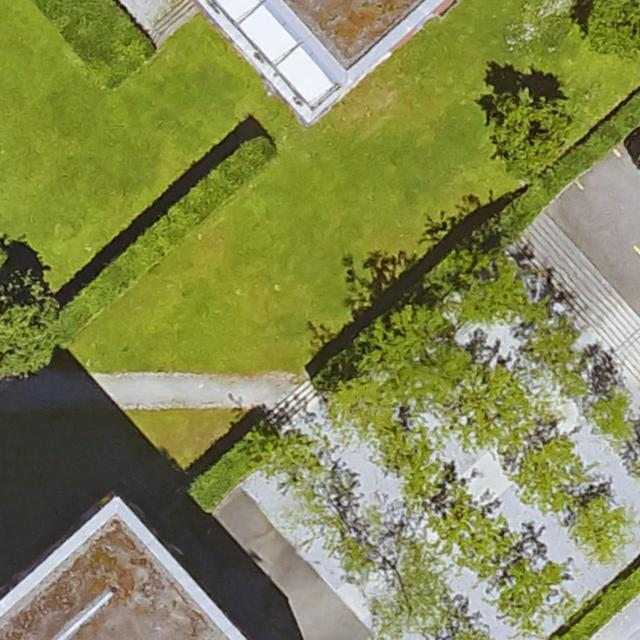tree: (489, 87, 571, 166), (0, 272, 54, 379), (586, 0, 640, 59)
